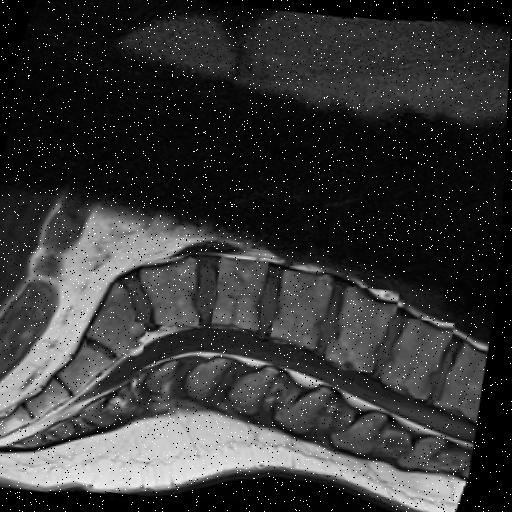L1: (384, 319, 455, 399)
L2: (328, 286, 399, 373)
L3: (273, 270, 332, 347)
L4: (213, 257, 270, 330)
L5: (142, 259, 200, 327)
S1: (89, 283, 148, 355)
